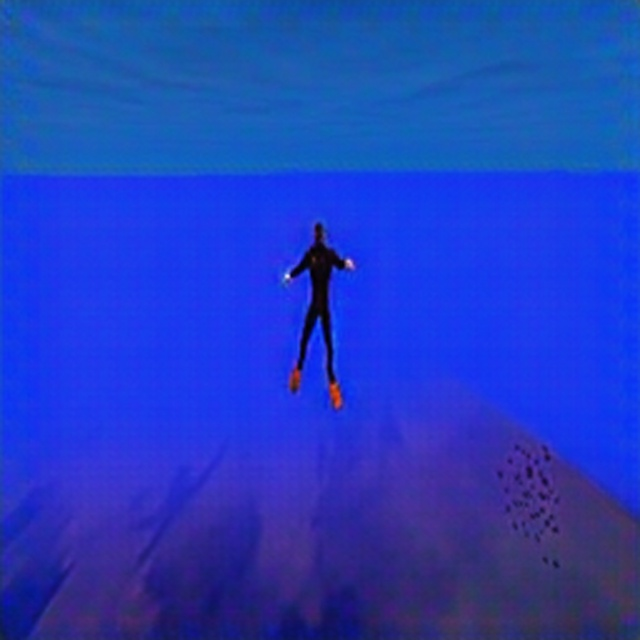diver: (280, 218, 356, 410)
